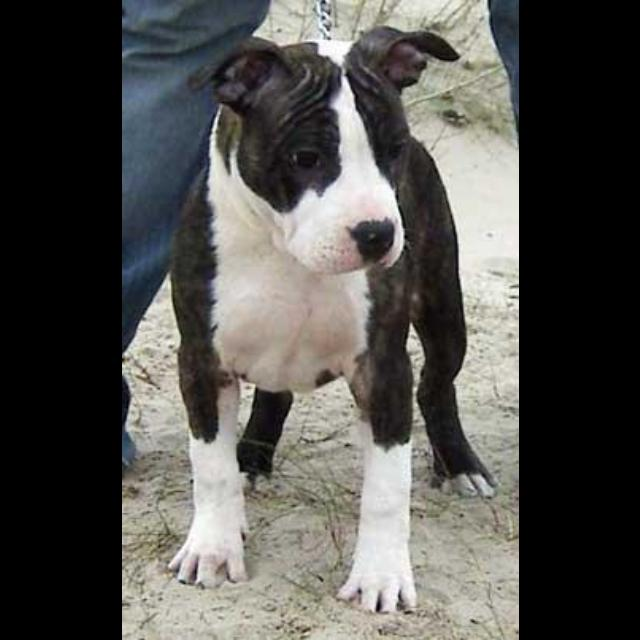amstaff: (166, 25, 499, 615)
